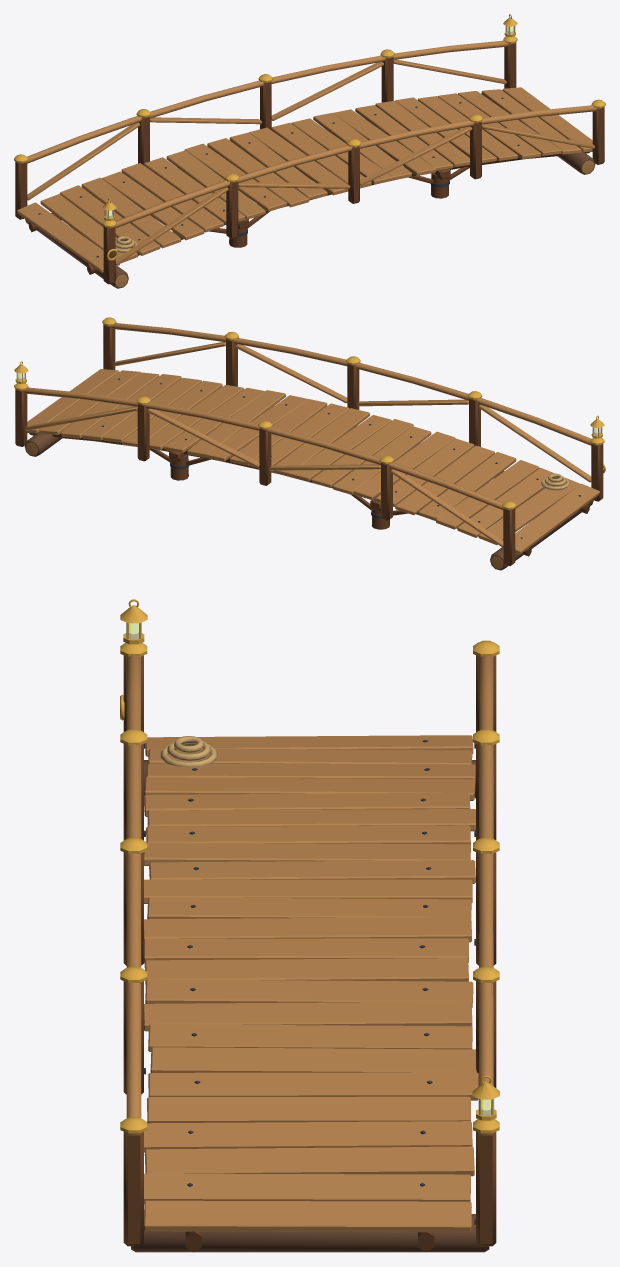
Rendered from prop_bridge.glb.
3 views of the same model, one above another, from view 1: azimuth 30°, elevation 25°; view 2: azimuth 150°, elevation 25°; view 3: azimuth 270°, elevation 25° (orthographic). The views are drawn at different scales.
Visible parts, largest first — view 1: Bridge; view 2: Bridge; view 3: Bridge.
Part boxes in pixels (x1,y1,x2,y2): Bridge: (14,14,605,288); Bridge: (14,317,605,570); Bridge: (120,599,499,1252).
Size of what is drawn, in the model's own units: 12.01 by 2.11 by 3.93.
